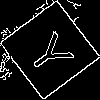Y: (25, 25, 82, 80)
